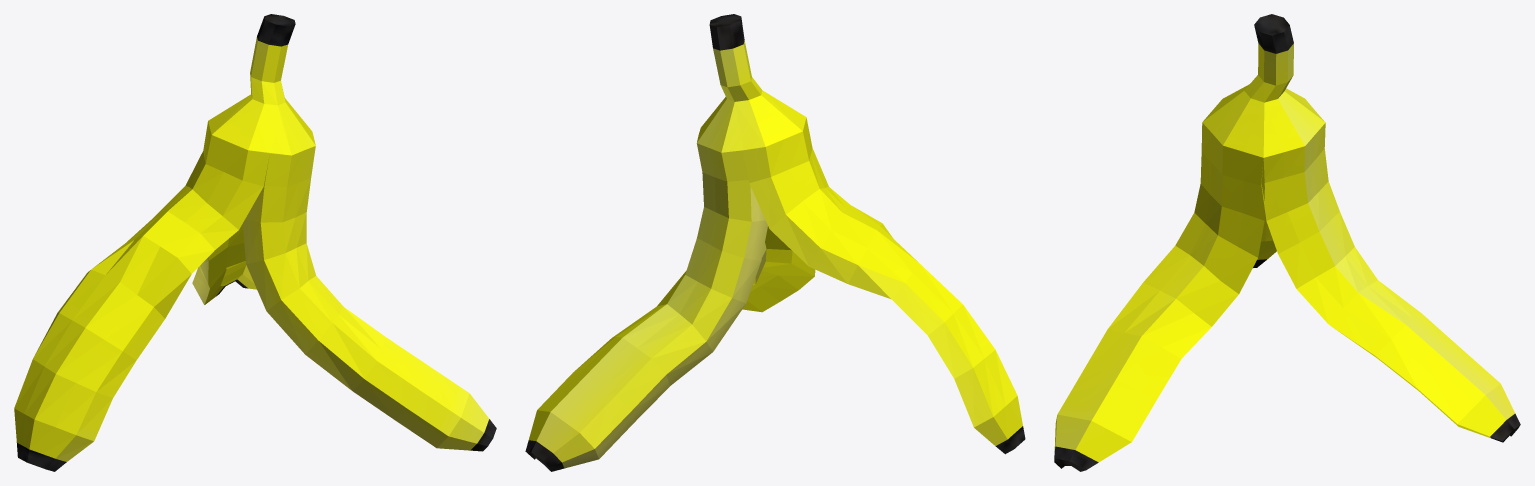
Rendered from BANANA HAT.fbx.
3 renders of one model, left to right at view 1: azimuth 30°, elevation 25°; view 2: azimuth 150°, elevation 25°; view 3: azimuth 270°, elevation 25°, orthographic. The views are drawn at different scales.
Parts seen in each view (by area): view 1: BANANA_HAT; view 2: BANANA_HAT; view 3: BANANA_HAT.
Boxes of the visible parts, x1=… form: BANANA_HAT: x1=14, y1=14, x2=496, y2=471; BANANA_HAT: x1=525, y1=14, x2=1025, y2=471; BANANA_HAT: x1=1054, y1=14, x2=1520, y2=471.
Size of the model in its own units: 26.68 by 24.66 by 26.29.
